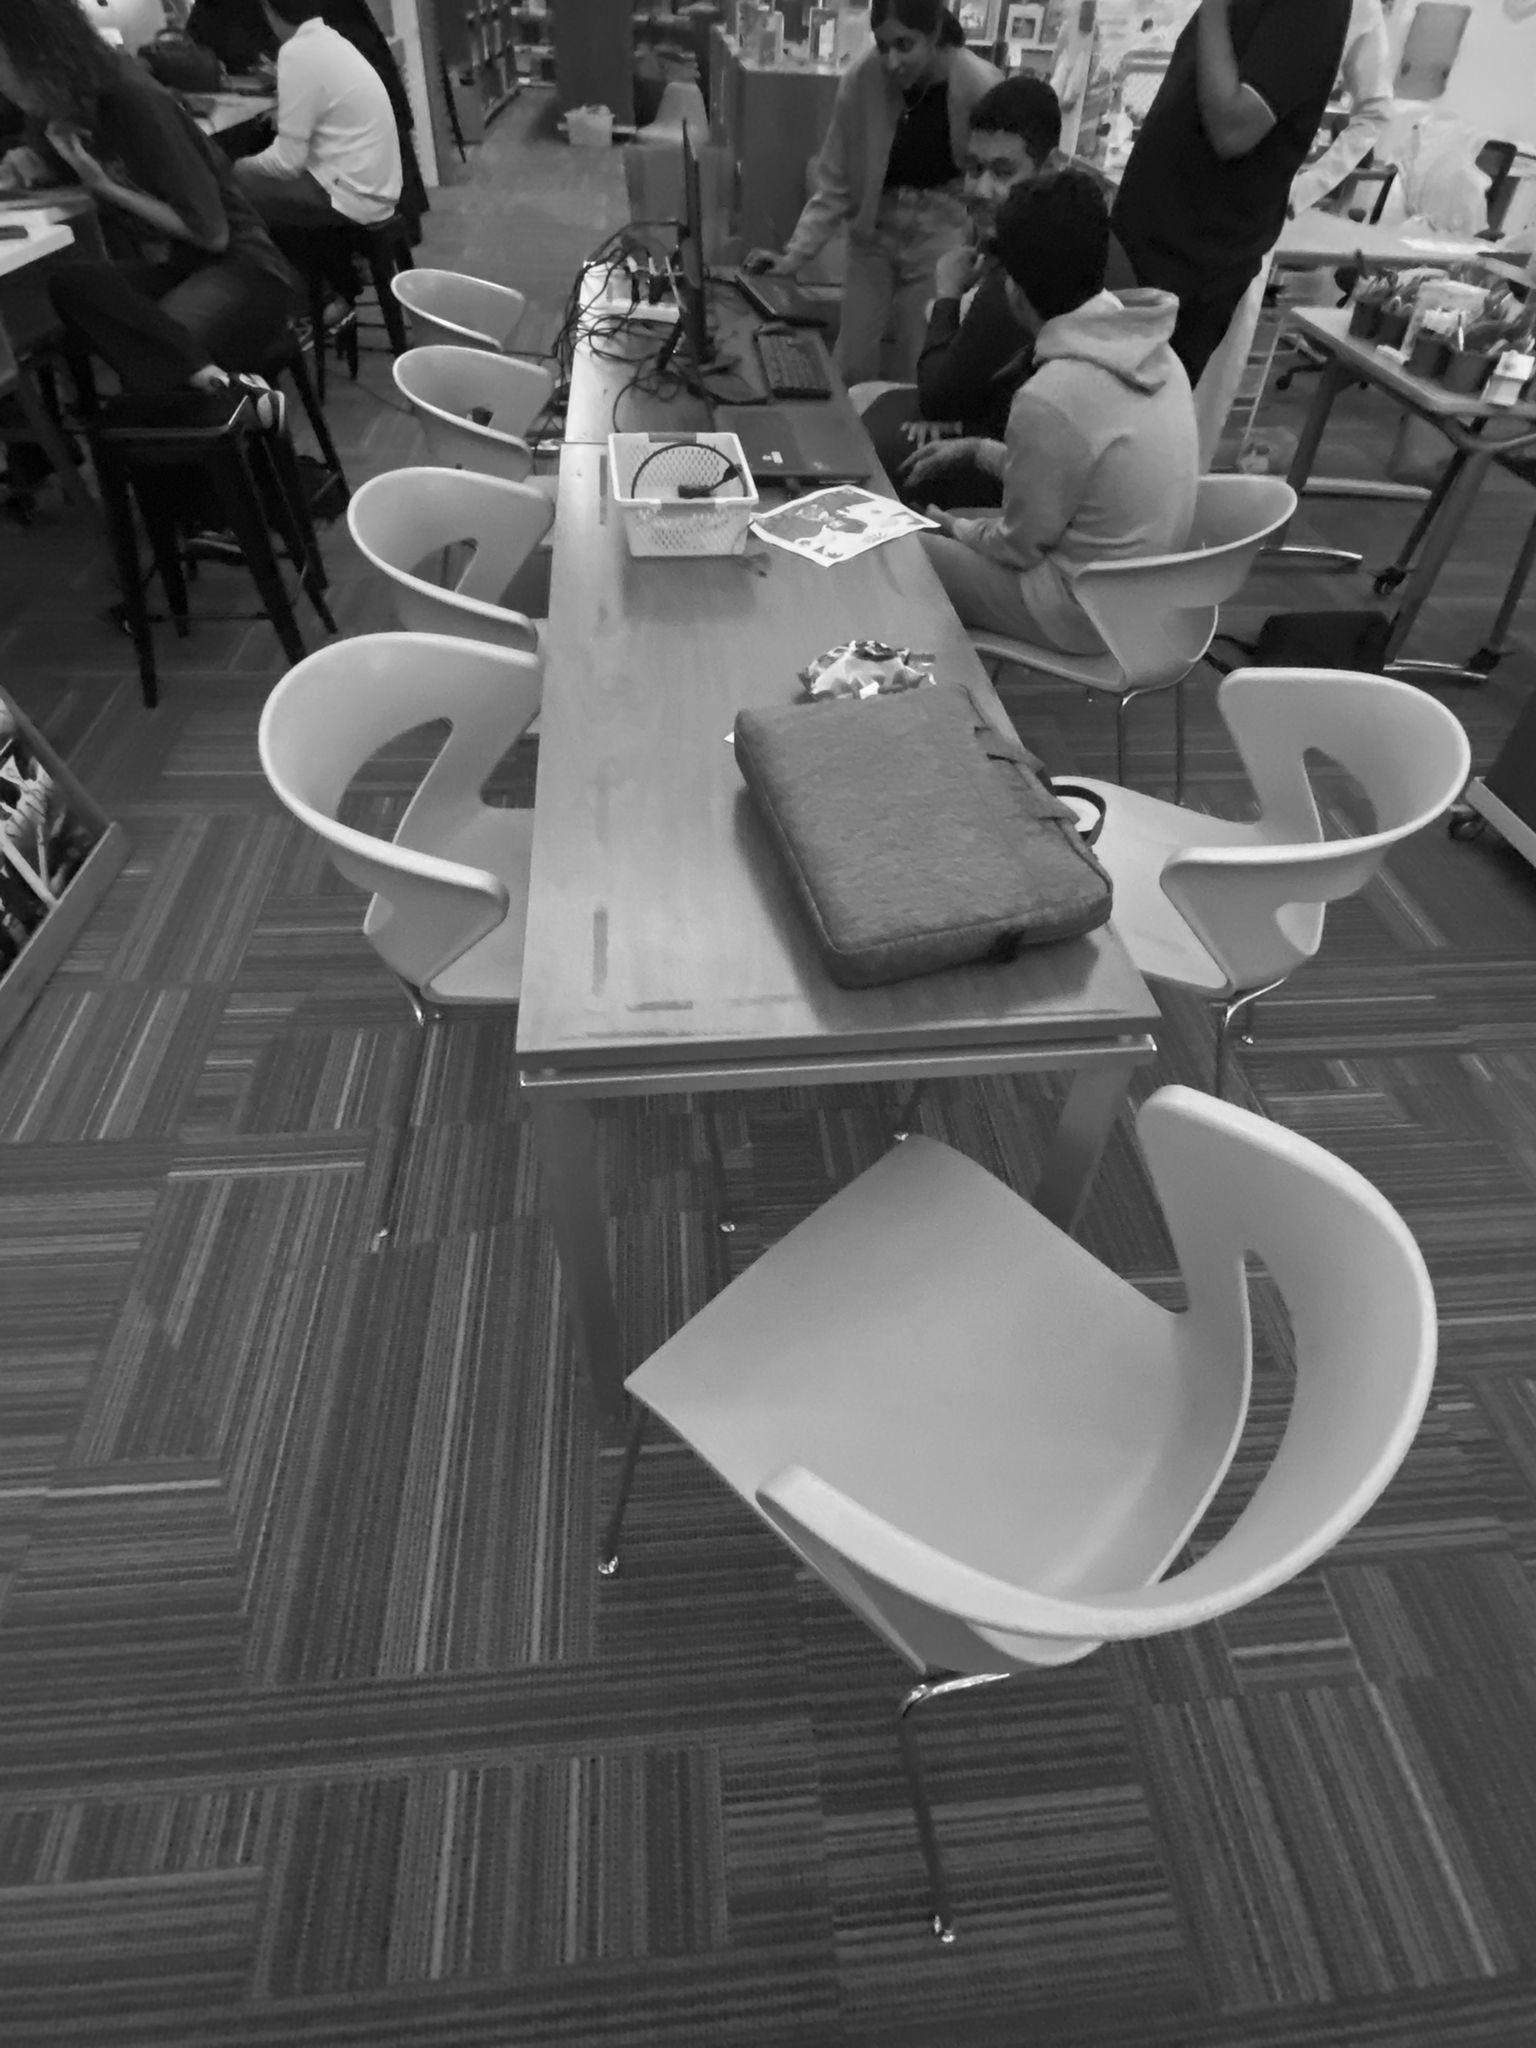Chair: (626, 1085, 1438, 1945), (1084, 668, 1468, 1093), (260, 631, 541, 1100), (968, 477, 1296, 800), (347, 466, 553, 703), (394, 343, 553, 500), (392, 266, 526, 355)
Table: (516, 264, 1158, 1422), (813, 335, 889, 492), (712, 287, 762, 387)
